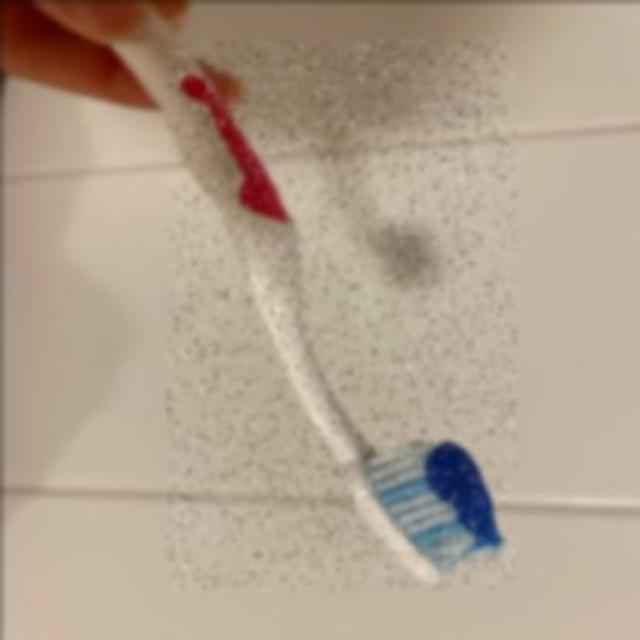toothbrush: (166, 40, 514, 588)
